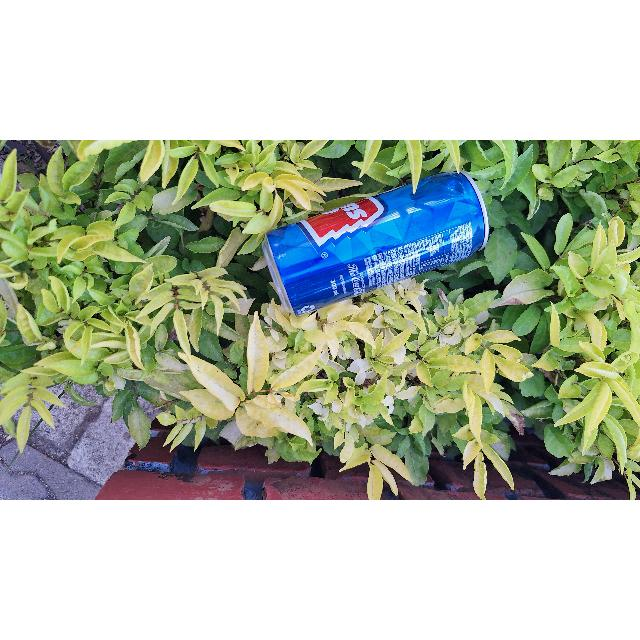Thums Up: (256, 164, 494, 318)
